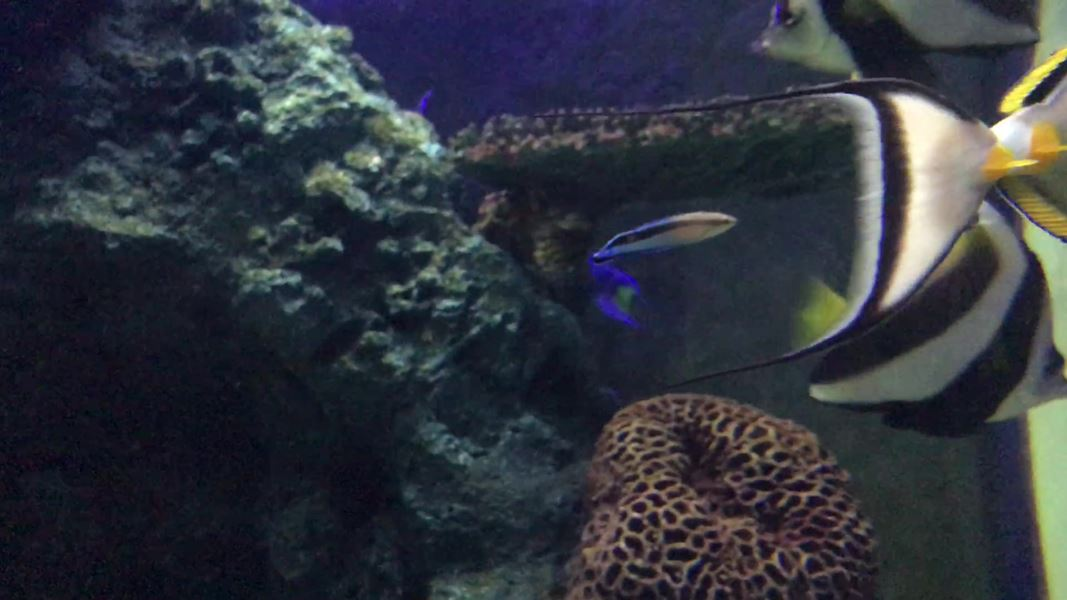Bluesteak cleaner wrasse: (577, 207, 741, 274)
